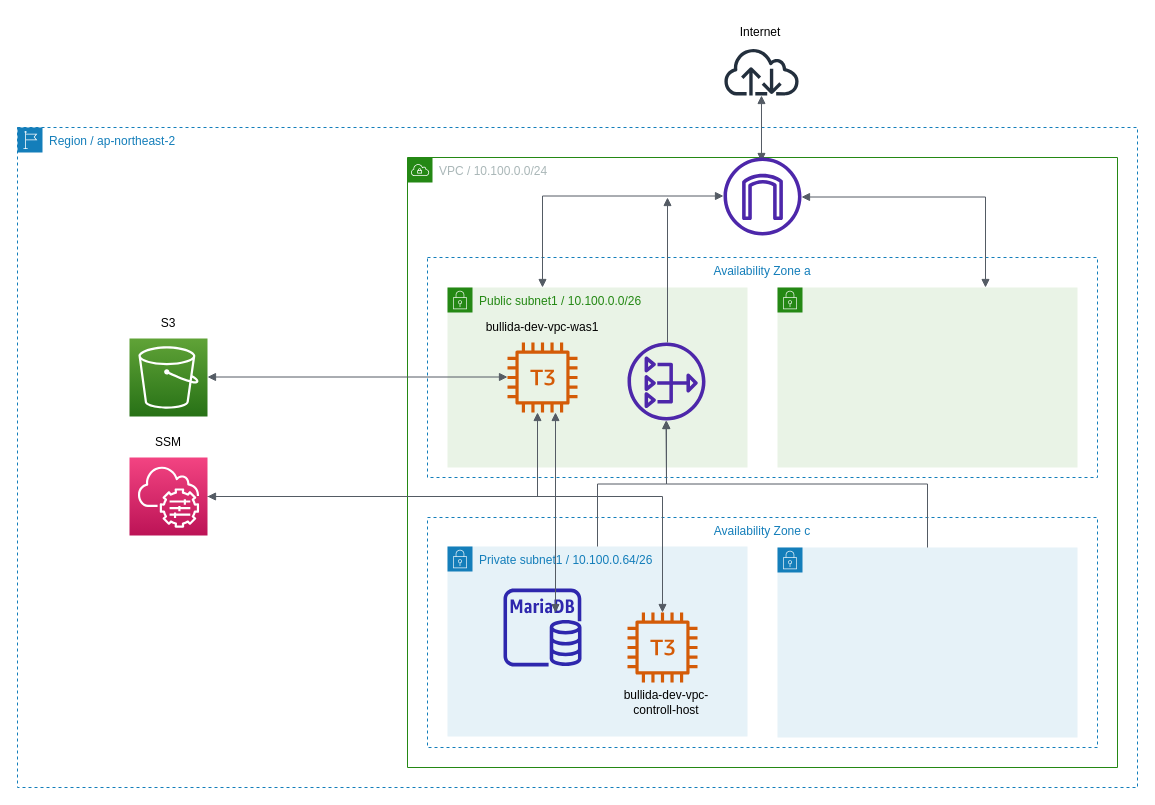
Image size: 1155x805. Some labels were removed from this diagram. Here are the shapes that lost their labels. From the top down, the centre of each, then its label:
the point at 927,377: Public subnet2 / 10.100.0.128/26
the point at 927,642: Private subnet2 / 10.100.0.192/26
